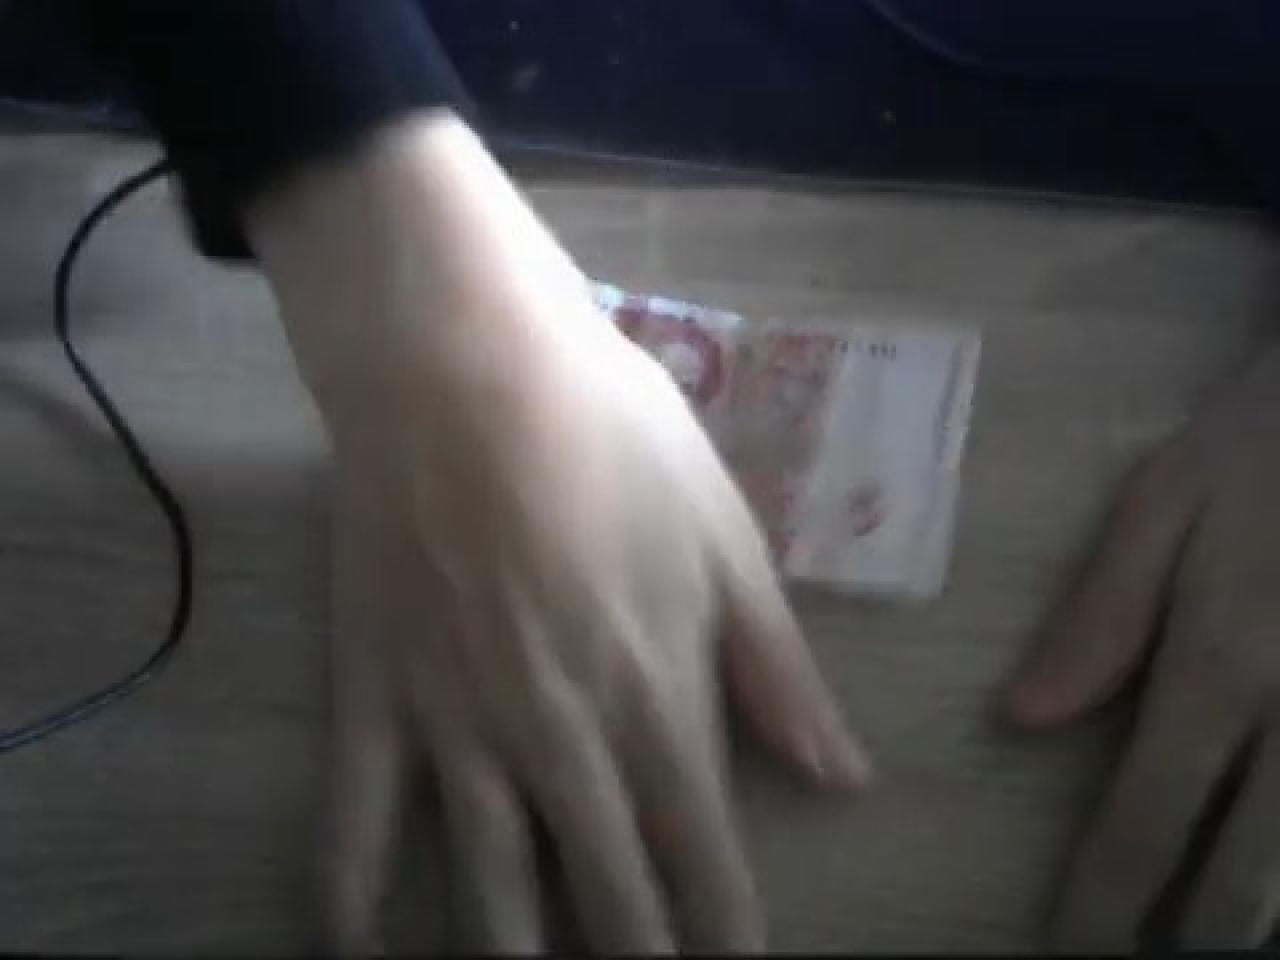5leva: (598, 288, 984, 611)
